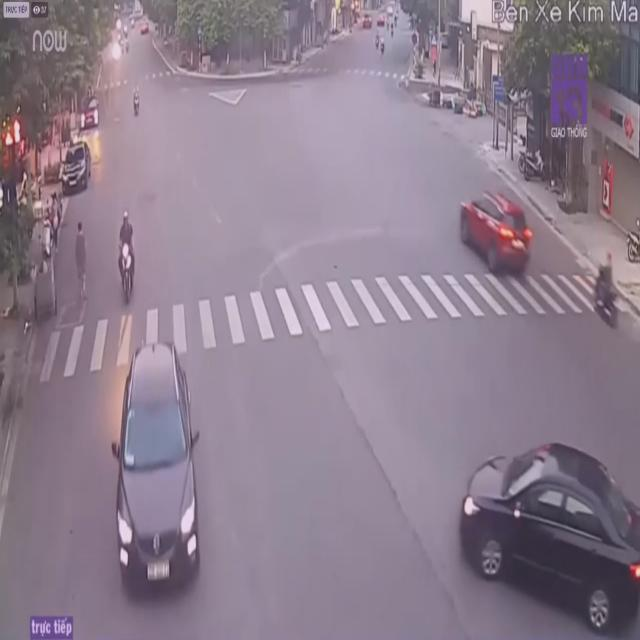car: (460, 444, 640, 640), (115, 300, 203, 590), (459, 187, 531, 277)
motorbike: (118, 207, 140, 304), (593, 253, 619, 324), (131, 85, 142, 119)
